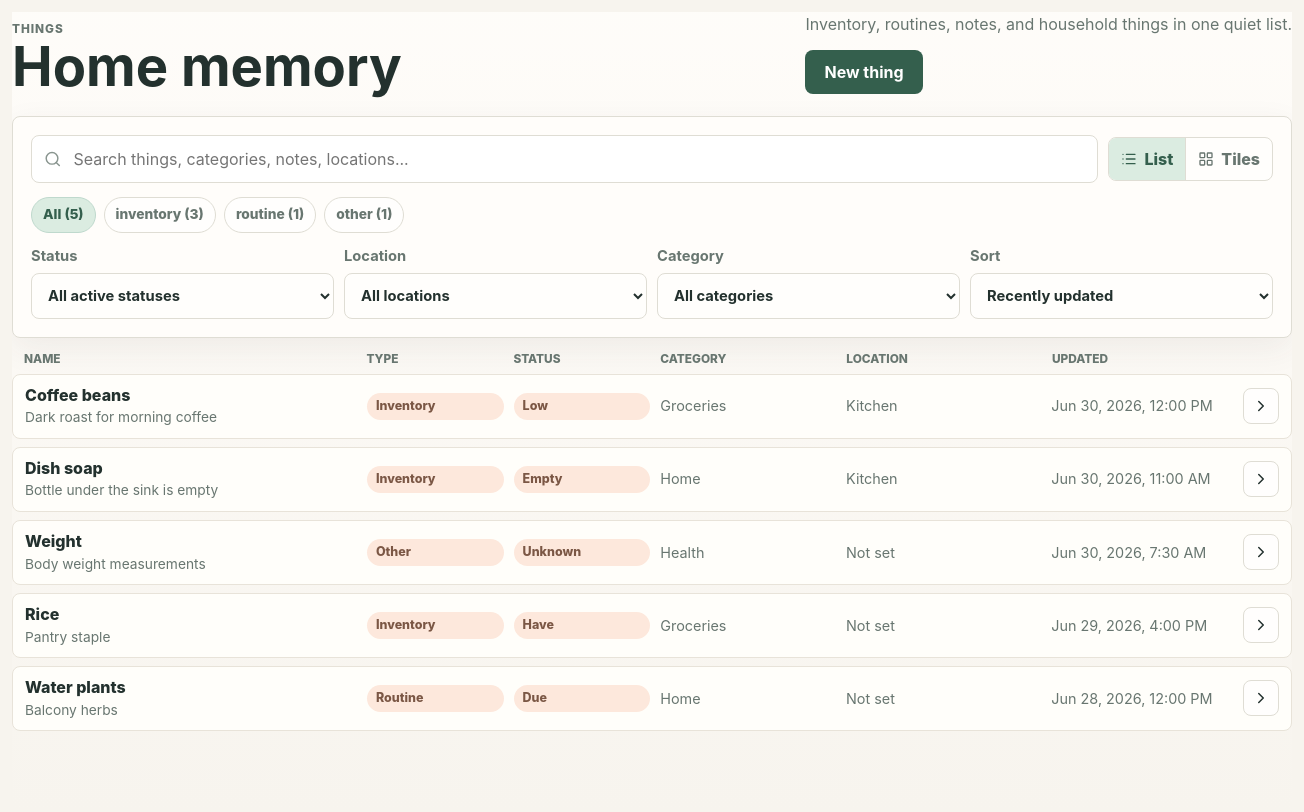
Scenario: Things list › view toggle switches from List to Tiles
What coordinates should you click on to do the following:
click the button "Tiles"
I would click on:
 (1229, 159)
Its box is [1186,138,1272,180].
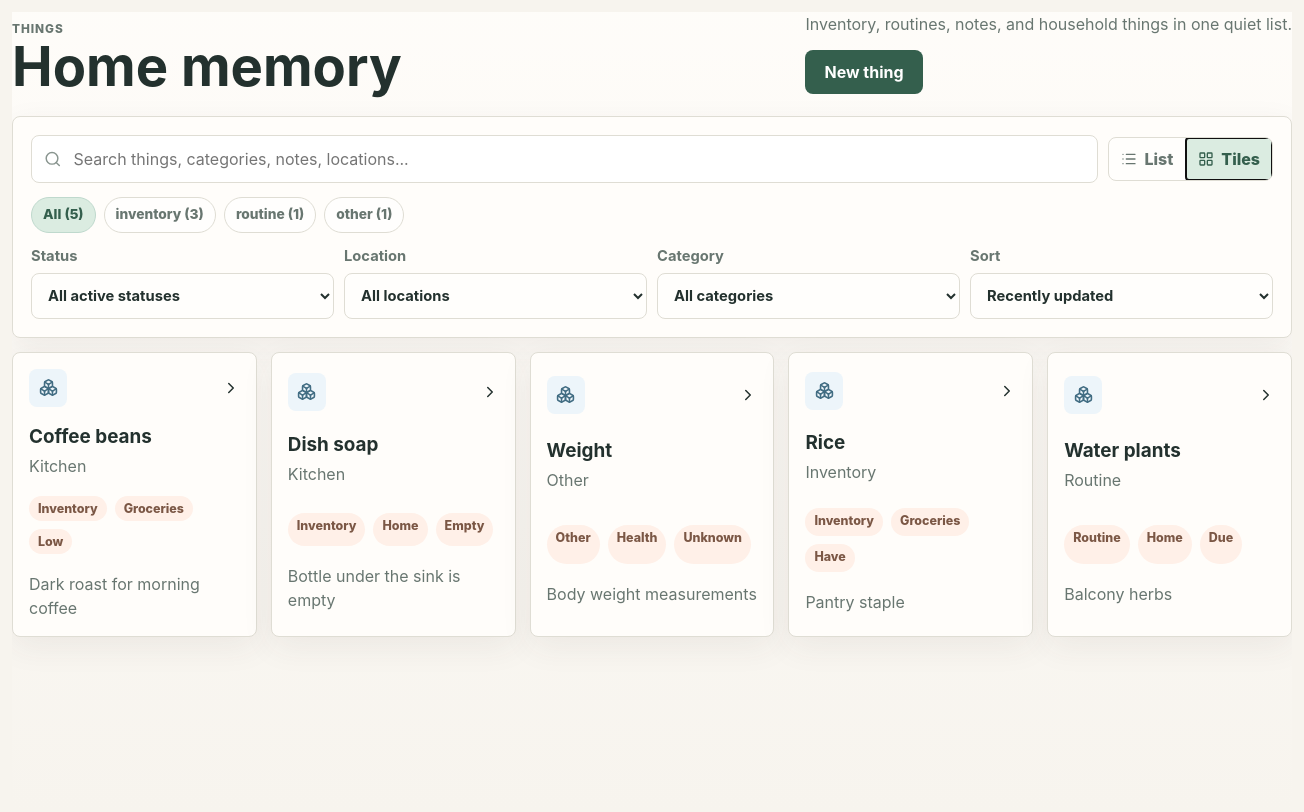
expect the link that starts with "Coffee beans" is shown: met, box [12,352,257,637]
